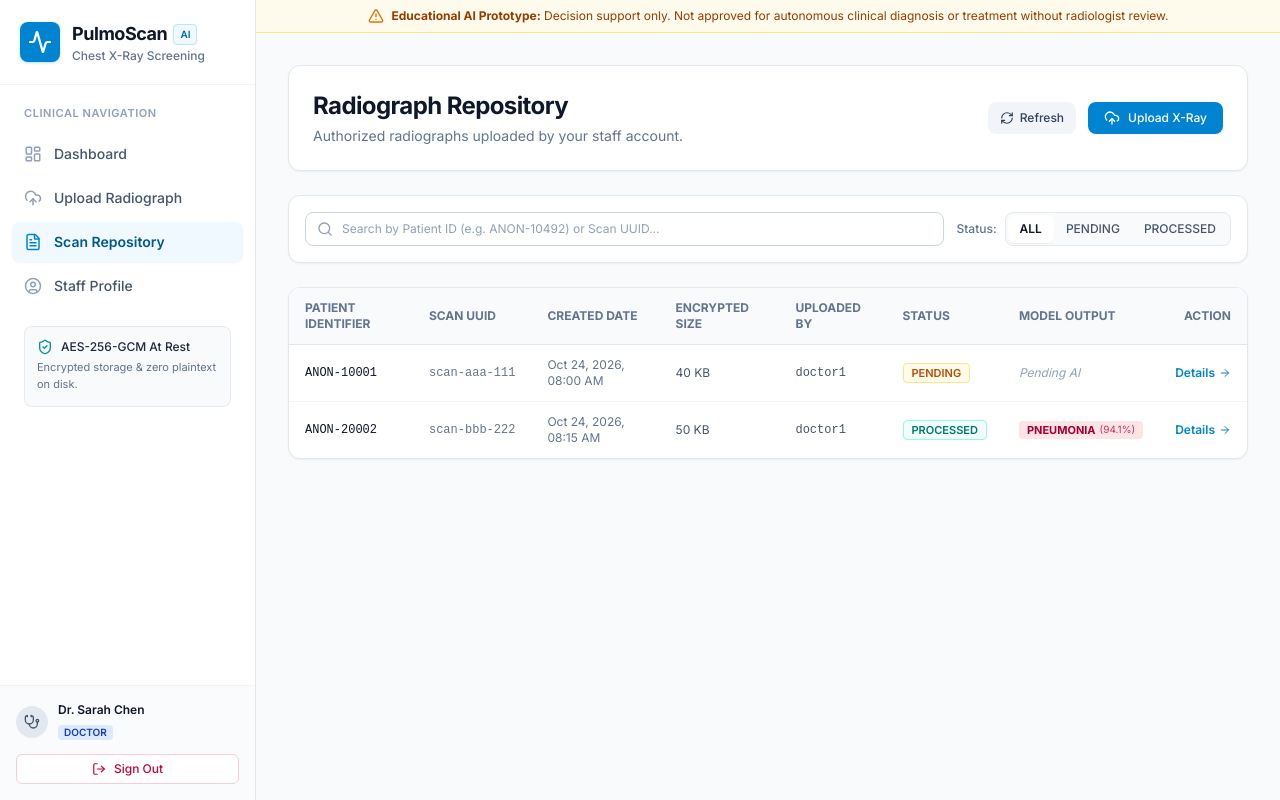
Test case: ScansHistoryPage › filters scan records by prediction status button
The width and height of the screenshot is (1280, 800).
Expected: the text "ANON-10001" is shown, [289,344,413,402]
Note: Click PROCESSED status filter button
Click the button "PROCESSED": (1180, 229) [1132,215,1228,243]
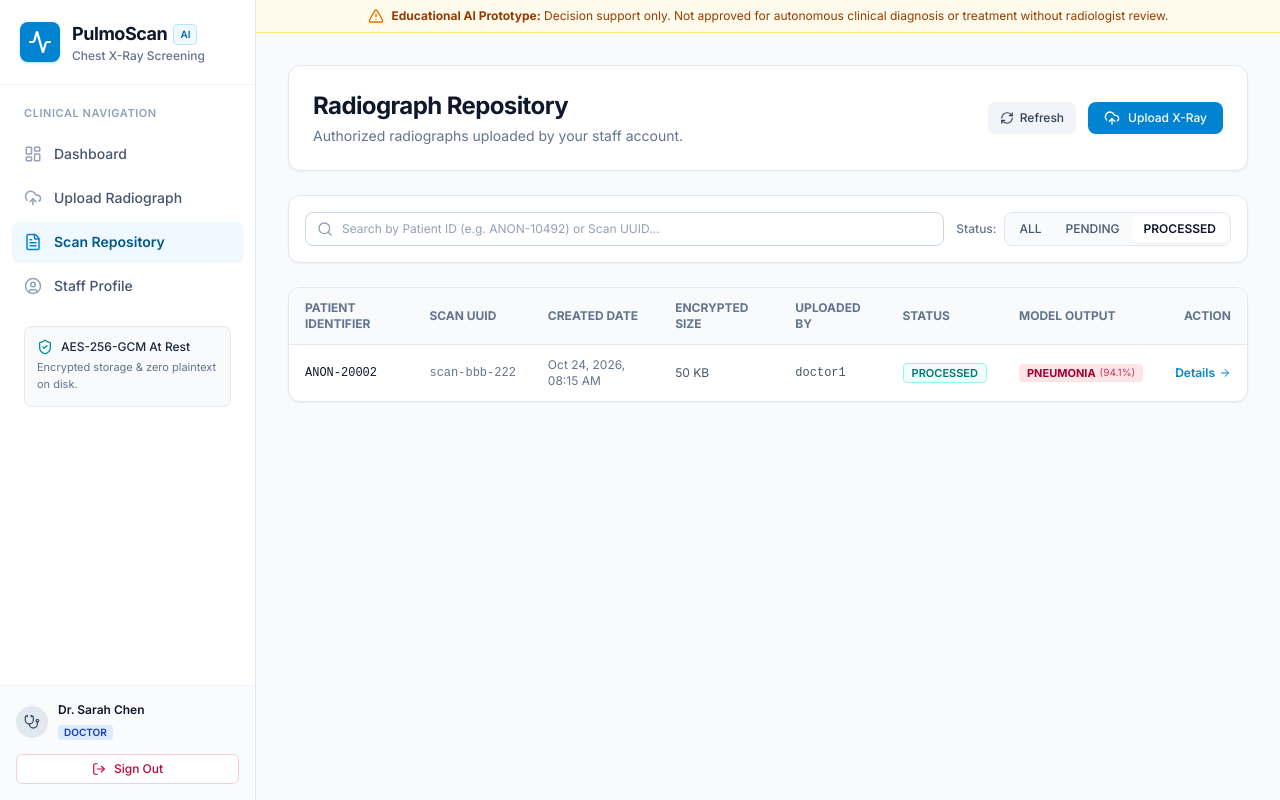
Expected: the text "ANON-20002" is shown, [289,344,413,401]
Now the text "ANON-10001" is gone
